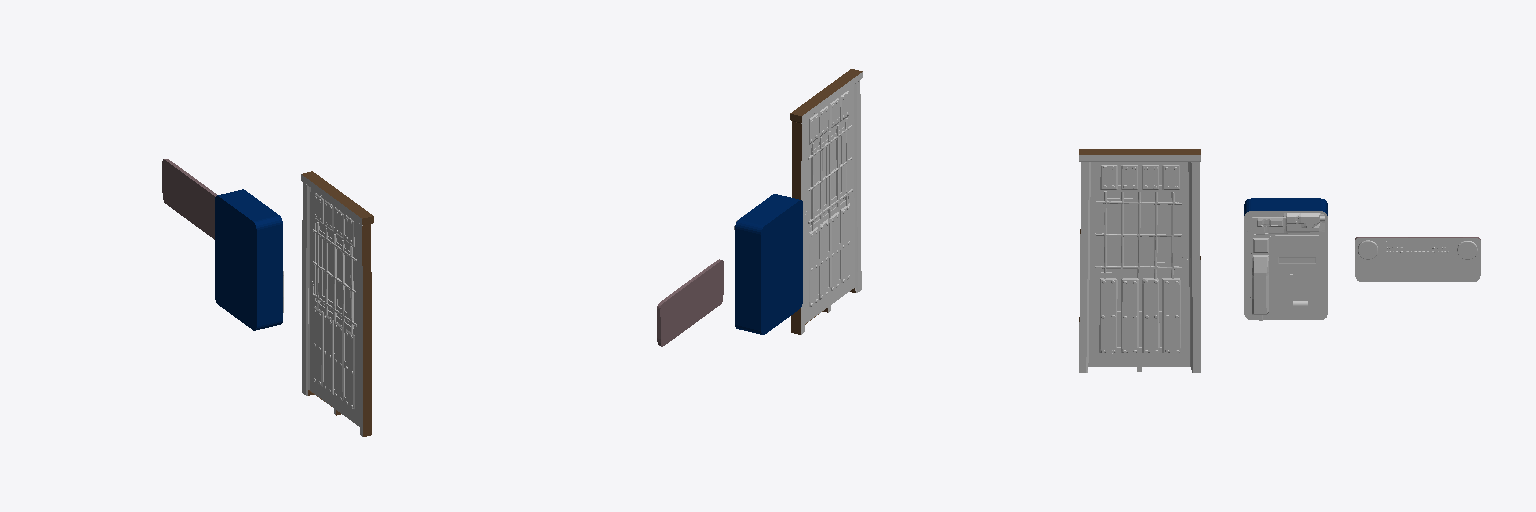
The model's file is Photobashing.obj.
3 views of the same model, side by side, from view 1: azimuth 30°, elevation 25°; view 2: azimuth 150°, elevation 25°; view 3: azimuth 270°, elevation 25° (orthographic).
Visible parts, largest first — view 1: puerta, cabina, piano; view 2: puerta, cabina, piano; view 3: puerta, cabina, piano.
Part boxes in pixels (left/top/right/bottom): puerta: left=301, top=171, right=373, bottom=436; cabina: left=215, top=189, right=283, bottom=330; piano: left=162, top=159, right=216, bottom=239; puerta: left=790, top=69, right=862, bottom=334; cabina: left=734, top=194, right=802, bottom=334; piano: left=657, top=259, right=723, bottom=346; puerta: left=1079, top=149, right=1200, bottom=372; cabina: left=1244, top=198, right=1327, bottom=320; piano: left=1355, top=237, right=1480, bottom=281.
Size of the model in its own units: 0.2981 by 1.81 by 3.02.